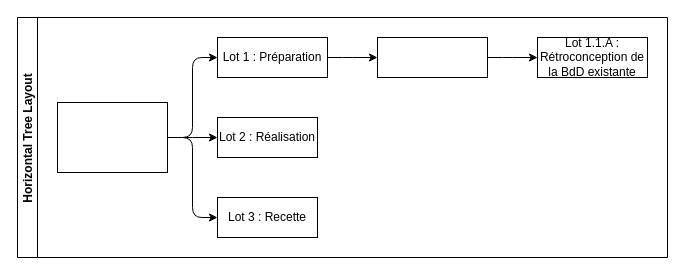
Image size: 685x275. Some labels were removed from this diagram. Each missing label, with the box of its shape:
Lot 1.1 : Schéma de la BdD: (376, 36, 488, 78)
Projet de migration technique d’une Base de Données: (56, 102, 168, 172)
